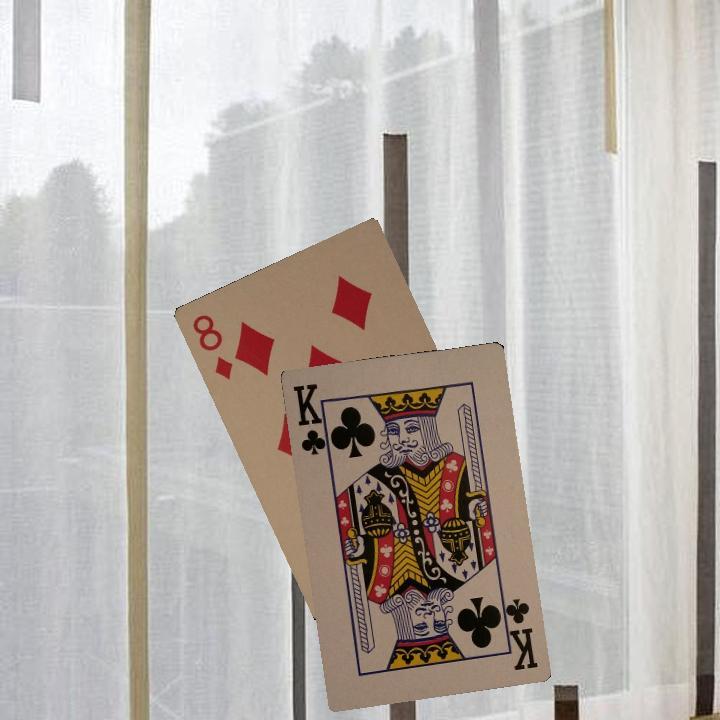8d: (188, 310, 236, 383)
Kc: (496, 592, 541, 673), (289, 379, 333, 458)
